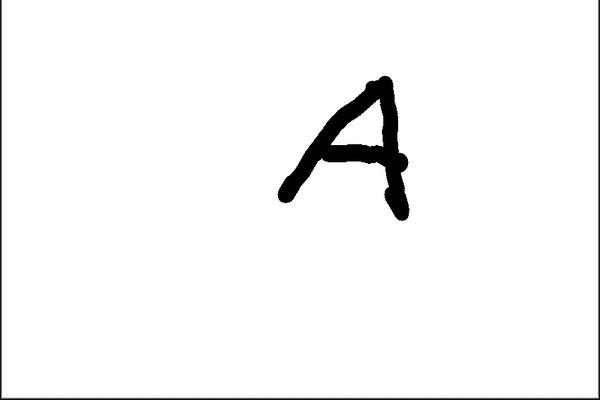A: (263, 70, 420, 227)
